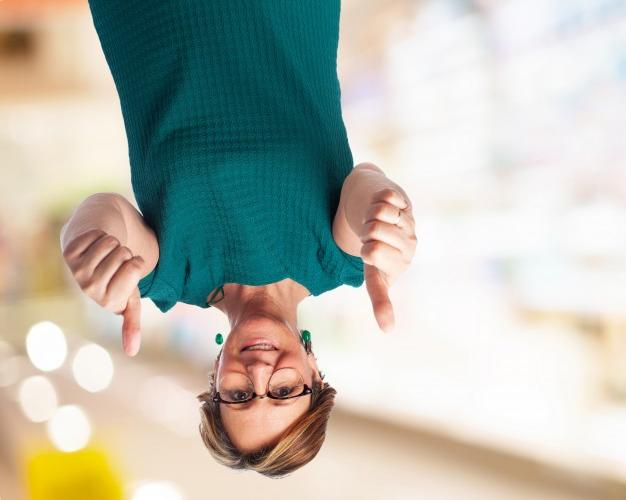thumbsdown: (62, 228, 147, 357), (360, 188, 418, 334)
